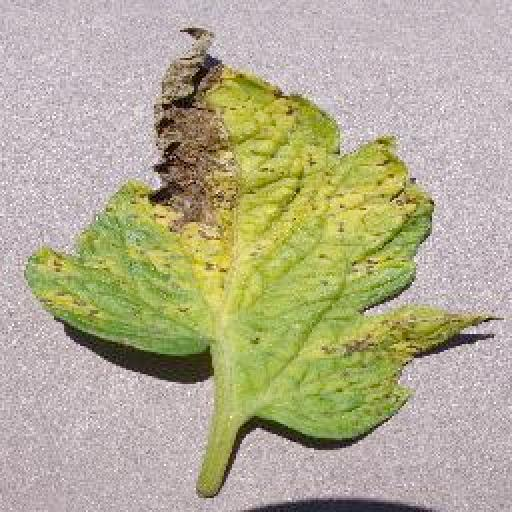disease_tomato: (28, 24, 502, 442)
